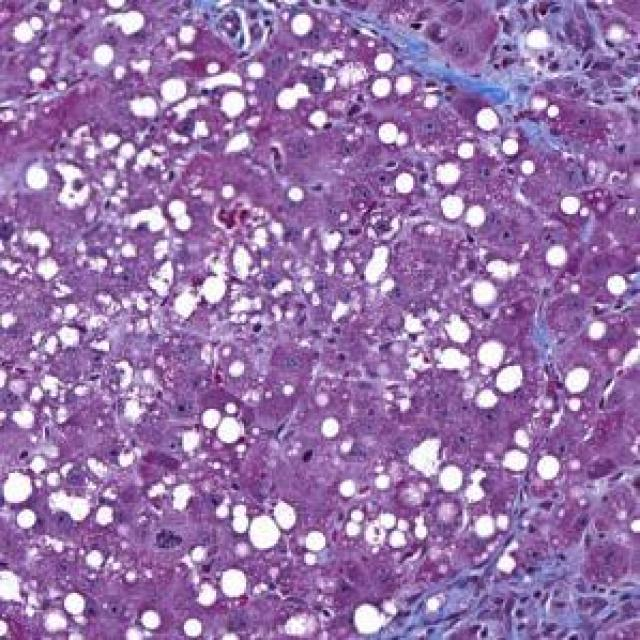fibrosis: (400, 23, 627, 144), (402, 548, 616, 634)
